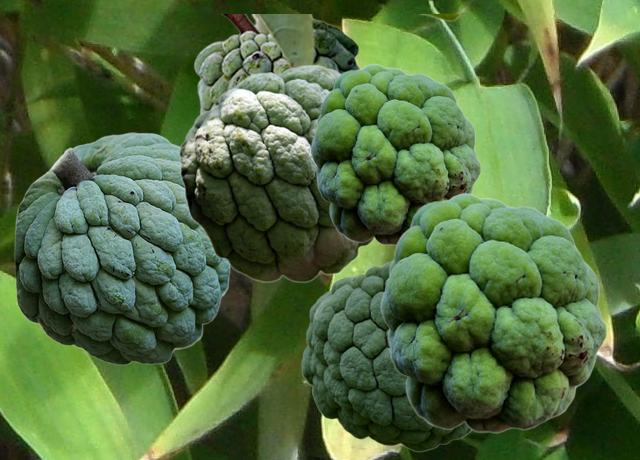atis: (380, 192, 606, 433), (14, 132, 231, 364), (178, 64, 374, 282), (301, 260, 471, 451), (310, 63, 480, 245), (193, 14, 459, 115)
